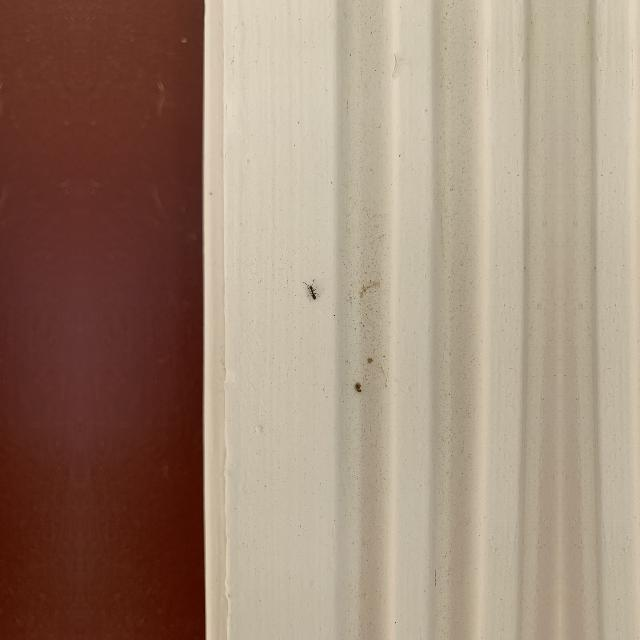Tapinoma: (307, 282, 319, 302)
